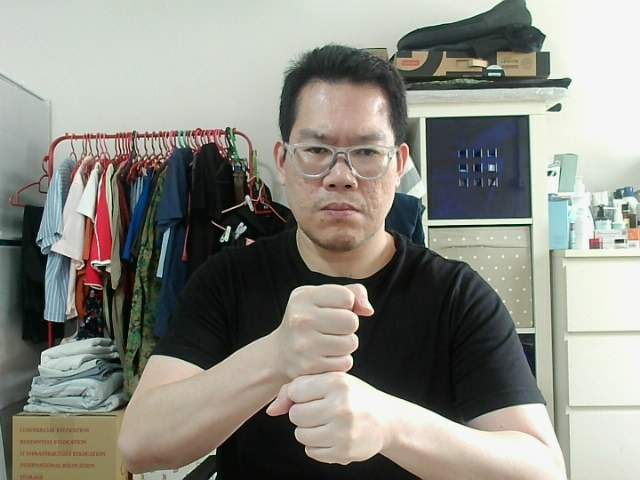get: (277, 293, 367, 365)
